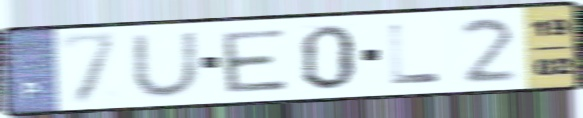0: (296, 22, 361, 92)
2: (455, 15, 522, 86)
7: (59, 29, 123, 107)
E: (216, 26, 292, 95)
L: (385, 22, 445, 87)
U: (127, 28, 205, 100)
